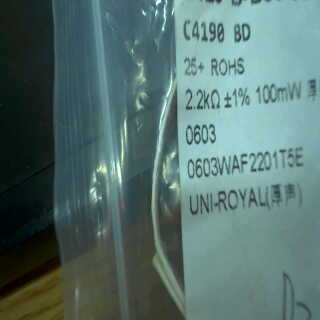2.2kR: (182, 82, 224, 115)
